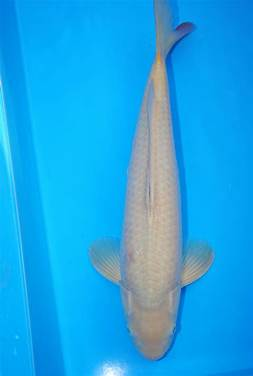white: (86, 1, 214, 361)
